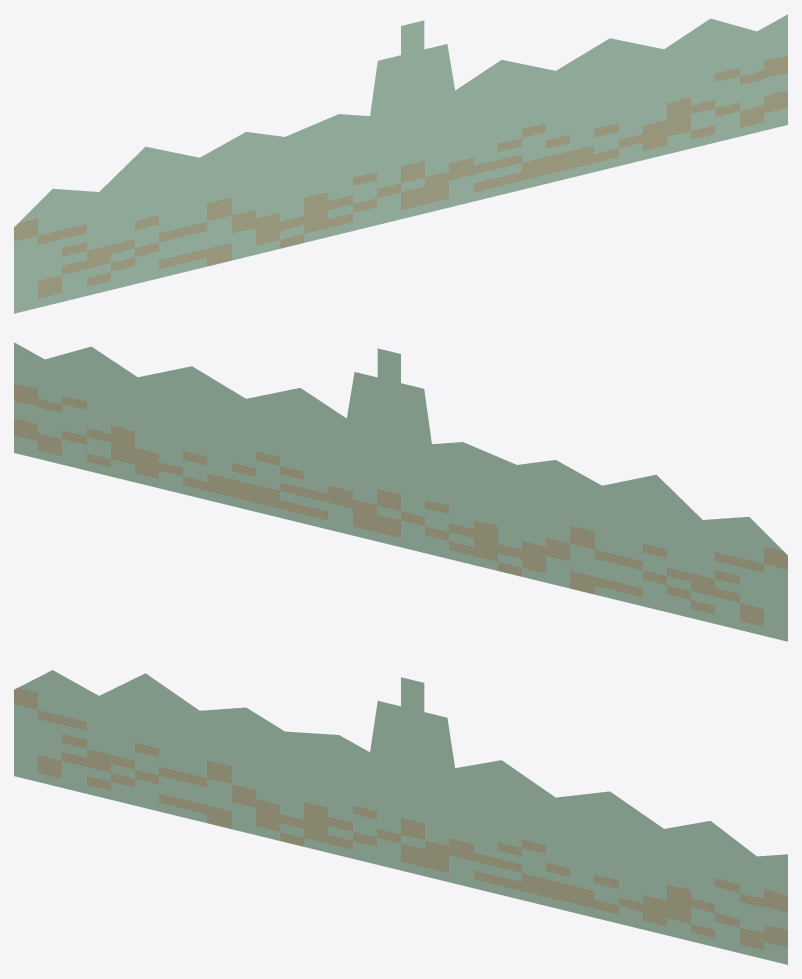
File: land.skyline__canopy.glb
3 views of the same model, one above another, from view 1: azimuth 30°, elevation 25°; view 2: azimuth 150°, elevation 25°; view 3: azimuth 330°, elevation 25° (orthographic).
Parts seen in each view (by area): view 1: kit_shell_skyline; view 2: kit_shell_skyline; view 3: kit_shell_skyline.
Boxes of the visible parts, box(x1,y1,x2,y2) form: kit_shell_skyline: box(14, 14, 787, 313); kit_shell_skyline: box(14, 342, 787, 641); kit_shell_skyline: box(14, 670, 787, 964).
Size of the model in its own units: 60 by 14.32 by 0.
1 material, 1 textured.
